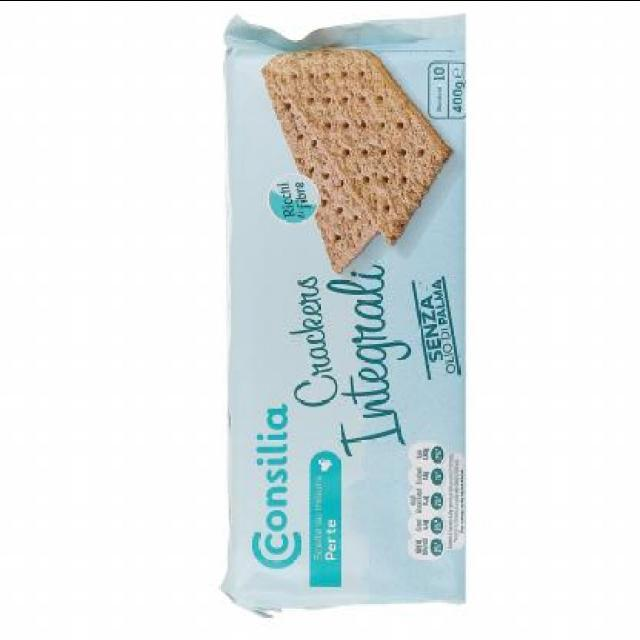Cracker: (214, 7, 480, 618)
